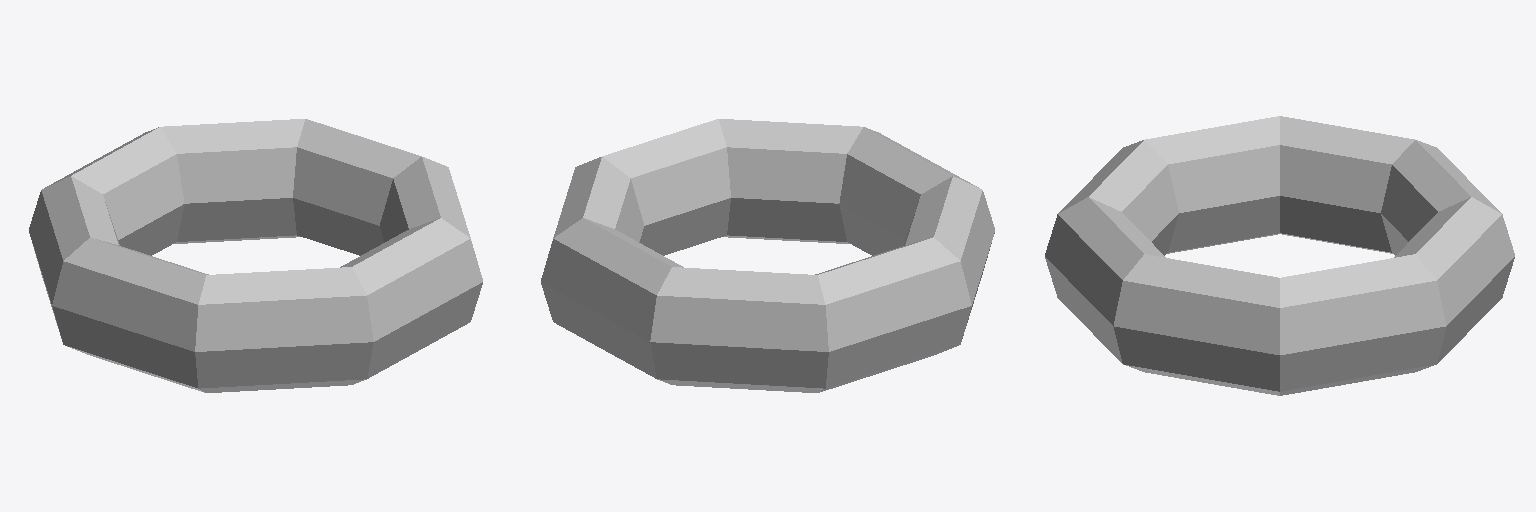
File: octahedron_smoothed_20.obj
The picture shows the model from 3 angles: view 1: azimuth 30°, elevation 25°; view 2: azimuth 150°, elevation 25°; view 3: azimuth 270°, elevation 25°; orthographic projection.
Bounding box in the file's own units: 5.7 × 1.58 × 5.7.